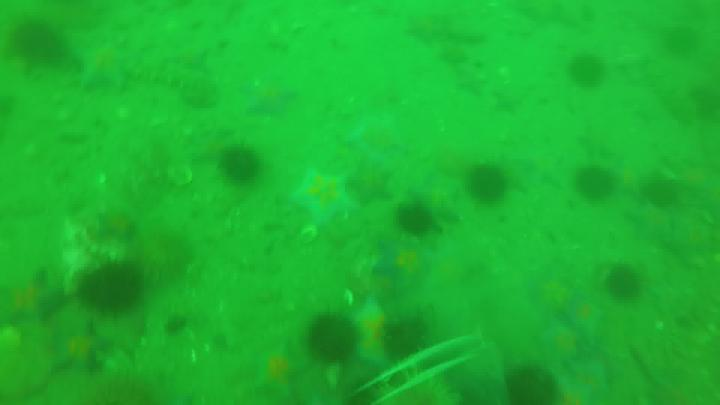echinus: (14, 22, 82, 75), (83, 262, 137, 312), (379, 313, 428, 364), (309, 313, 356, 363), (395, 199, 442, 237), (505, 372, 559, 405), (607, 264, 645, 305), (575, 164, 617, 198), (468, 167, 510, 201), (571, 52, 607, 90), (224, 146, 258, 183), (642, 180, 684, 207)
scallop: (169, 166, 195, 188), (300, 226, 321, 245)
starfish: (282, 169, 361, 223), (44, 321, 117, 377), (344, 111, 410, 170), (527, 266, 593, 325), (1, 267, 62, 330), (369, 239, 429, 299), (69, 41, 138, 90), (560, 355, 613, 405), (245, 77, 296, 121), (541, 323, 582, 365)
